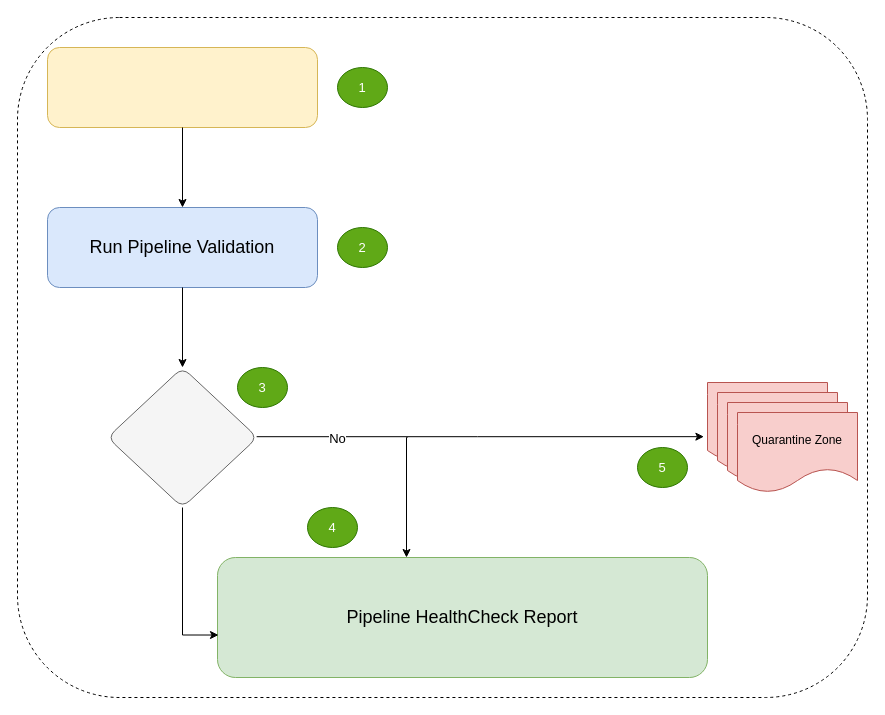
This 885x715 diagram has some shape labels left out. Each missing label, with the box of its shape:
All Checks Passed: (106, 366, 258, 508)
OW Deployment: (46, 46, 318, 128)
